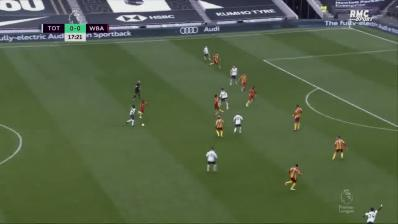football: (140, 122, 146, 127)
player: (283, 162, 307, 192), (358, 202, 386, 224), (329, 134, 349, 162), (203, 146, 220, 175), (291, 104, 304, 134), (244, 85, 260, 109), (231, 110, 244, 136), (207, 52, 224, 69), (214, 116, 225, 140), (228, 64, 240, 85), (137, 100, 150, 119), (127, 104, 137, 128), (220, 86, 230, 110), (213, 94, 223, 116), (239, 71, 249, 92), (202, 43, 211, 61)
referee: (130, 78, 145, 101)
